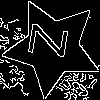Z: (28, 22, 78, 60)
